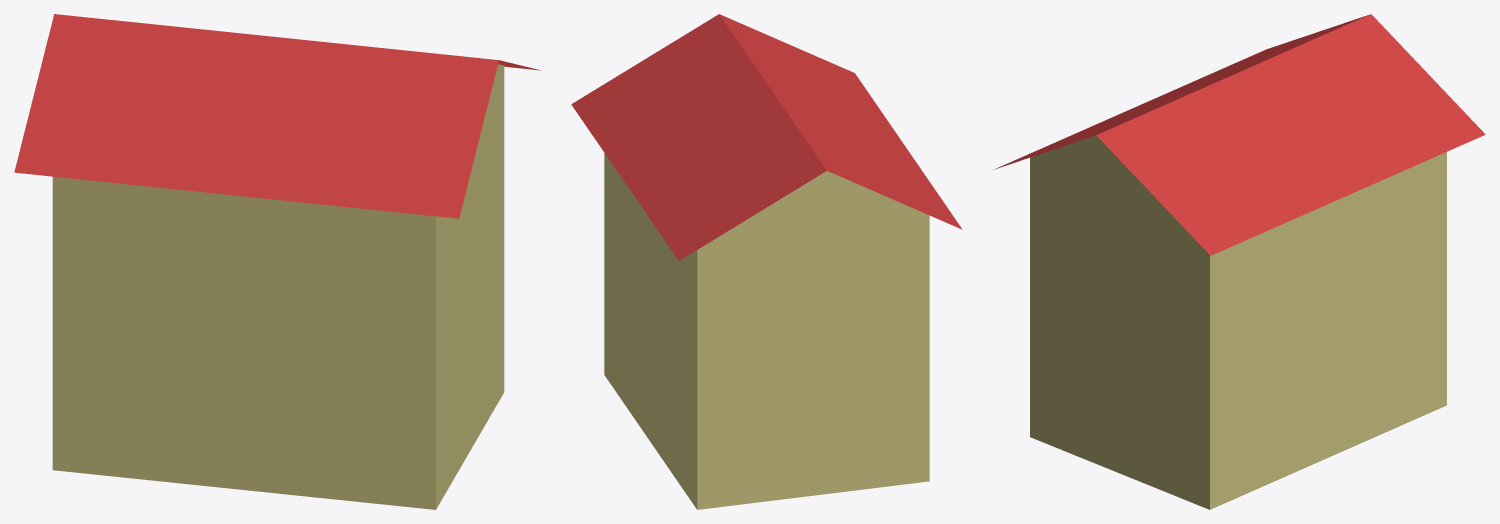
3 renders of one model, left to right at view 1: azimuth 30°, elevation 25°; view 2: azimuth 150°, elevation 25°; view 3: azimuth 270°, elevation 25°, orthographic. The views are drawn at different scales.
Visible parts, largest first — view 1: group_5, group_3, group_4; view 2: group_5, group_3, group_4; view 3: group_5, group_3, group_4.
Part boxes in pixels (left/top/right/bottom): group_5: left=52, top=64, right=504, bottom=509; group_3: left=14, top=14, right=531, bottom=218; group_4: left=54, top=14, right=541, bottom=140; group_5: left=604, top=153, right=929, bottom=509; group_3: left=571, top=14, right=962, bottom=234; group_4: left=572, top=14, right=845, bottom=260; group_5: left=1030, top=135, right=1446, bottom=509; group_3: left=992, top=14, right=1446, bottom=255; group_4: left=1062, top=14, right=1485, bottom=254.
Bounding box in the file's own units: 18.07 × 17.97 × 13.82.
